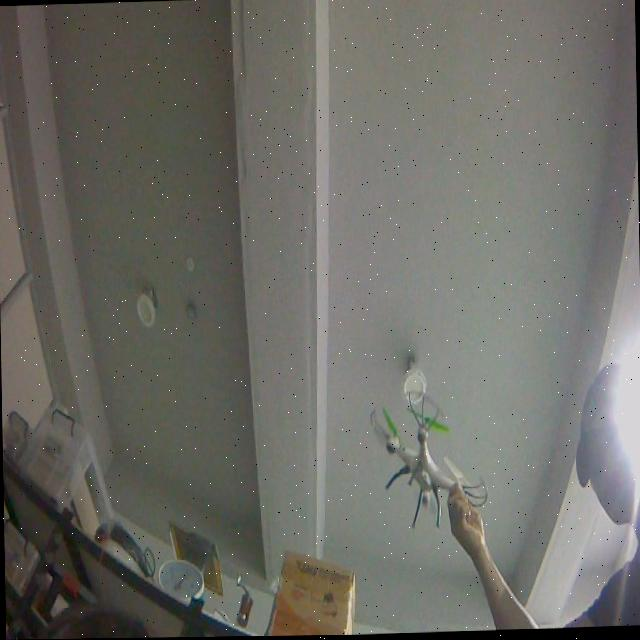drone: (366, 388, 490, 534)
